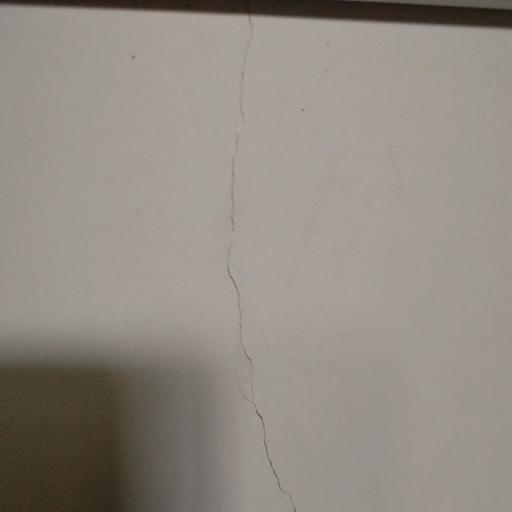minor_crack: (195, 16, 325, 512)
